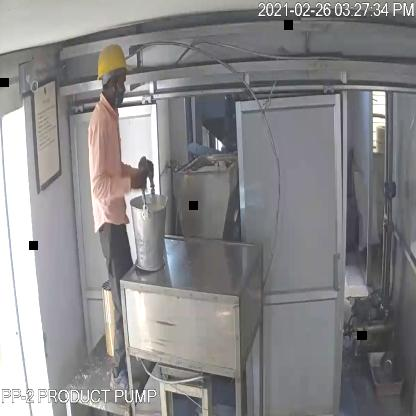helmet: (94, 43, 134, 86)
